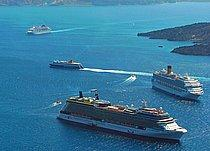Ship: (55, 90, 189, 145), (150, 65, 208, 104)
